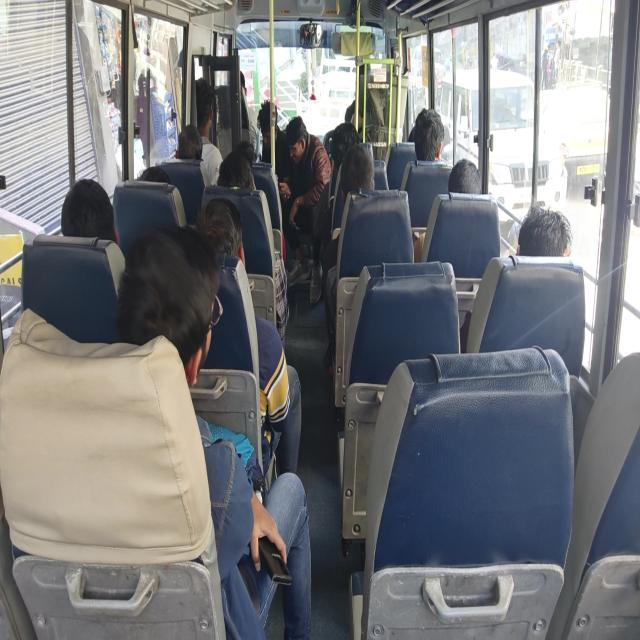person: (128, 222, 230, 403), (437, 155, 508, 250), (206, 186, 256, 292), (516, 193, 566, 290), (212, 143, 266, 224), (62, 186, 107, 265), (188, 70, 230, 148), (397, 114, 453, 166), (139, 140, 174, 213), (274, 122, 316, 182), (172, 118, 198, 185), (232, 54, 256, 120), (336, 166, 373, 208), (256, 83, 280, 145), (348, 59, 381, 100), (322, 120, 353, 160)
